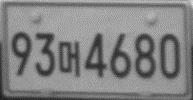0: (159, 32, 180, 80)
3: (34, 31, 54, 78)
4: (83, 33, 108, 79)
6: (109, 32, 131, 79)
8: (134, 33, 156, 79)
9: (9, 31, 32, 76)
머: (58, 41, 80, 79)
